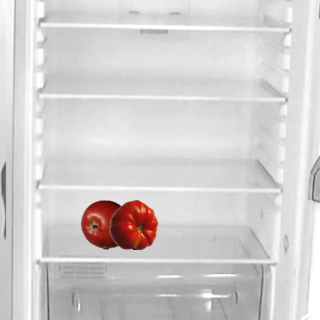Apple Braeburn: (80, 199, 130, 249)
Tomato 3: (108, 199, 158, 249)
